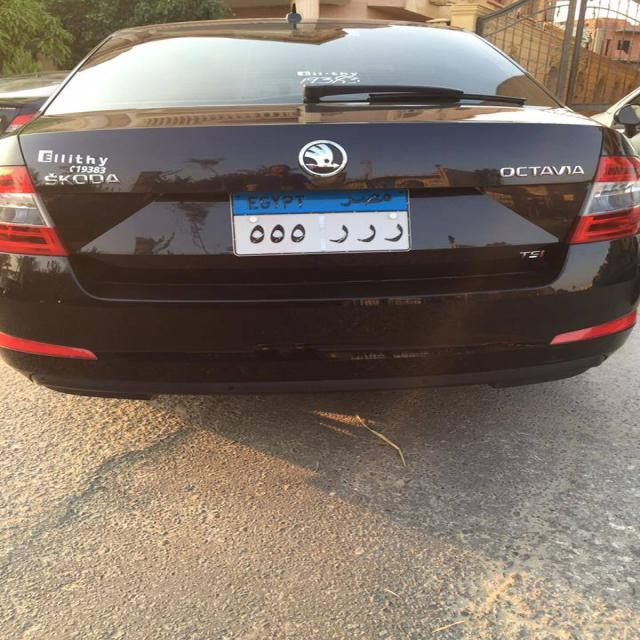License Plate: (228, 185, 412, 259)
